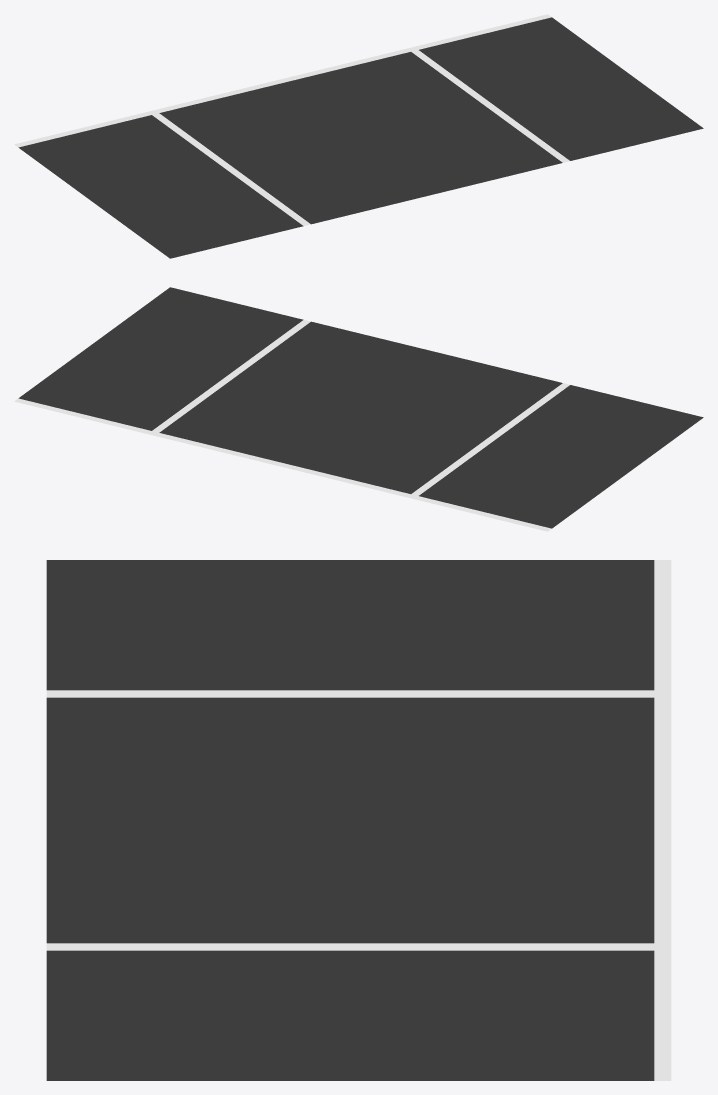
File: Asphalt_2.fbx
3 renders of one model, top to bottom at view 1: azimuth 30°, elevation 25°; view 2: azimuth 150°, elevation 25°; view 3: azimuth 270°, elevation 25°, orthographic. The views are drawn at different scales.
Parts seen in each view (by area): view 1: Asphalt_2; view 2: Asphalt_2; view 3: Asphalt_2.
Boxes of the visible parts, left/top/right/bottom form: Asphalt_2: left=14, top=14, right=703, bottom=258; Asphalt_2: left=14, top=287, right=703, bottom=531; Asphalt_2: left=46, top=560, right=671, bottom=1080.
Size of the model in its own units: 1200 by 0 by 608.
